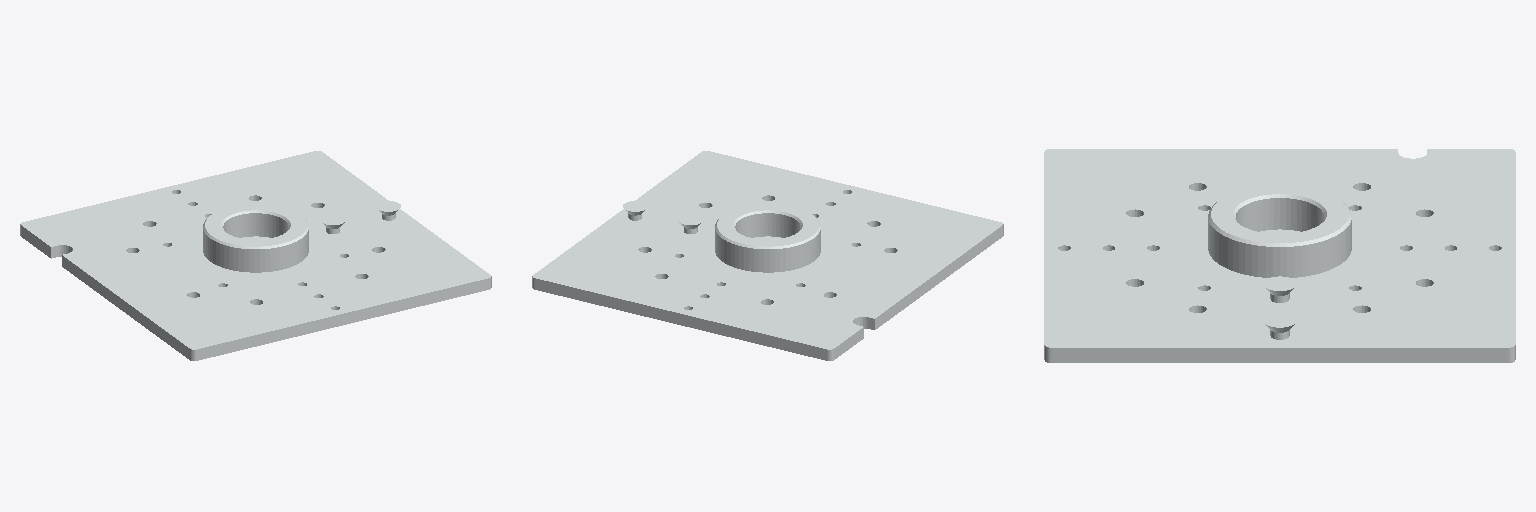
The robot description file, URDF, robot "icim_pallet_collet":
<?xml version="1.0" encoding="utf-8"?>
<!-- This URDF was automatically created by SolidWorks to URDF Exporter! Originally created by [author] ([email redacted]) 
     Commit Version: 1.6.0-1-g15f4949  Build Version: 1.6.7594.29634
     For more information, please see http://wiki.ros.org/sw_urdf_exporter -->
<robot name="icim_pallet_collet">
  <link name="icim_pallet_collet">
    <inertial>
      <origin xyz="0.00048763 -0.00011521 0.0038966" rpy="0 0 0" />
      <mass value="0.4642" />
      <inertia ixx="0.00094293" ixy="-4.1861E-06" ixz="-6.3835E-07" iyy="0.00095312" iyz="-2.0712E-09" izz="0.0018922" />
    </inertial>
    <visual>
      <origin xyz="0 0 0" rpy="0 0 0" />
      <geometry>
        <mesh filename="package://icim_pallet/meshes/icim_pallet_collet.STL" />
      </geometry>
      <material name="">
        <color rgba="0.89804 0.91765 0.92941 1" />
      </material>
    </visual>
    <collision>
      <origin xyz="0 0 0" rpy="0 0 0" />
      <geometry>
        <mesh filename="package://icim_pallet/meshes/icim_pallet_collet.STL" />
      </geometry>
    </collision>
  </link>
</robot>

--- Facts derived from the render (not from the file) ---
The picture shows the robot from 3 angles, left to right: view 1: azimuth 30°, elevation 25°; view 2: azimuth 150°, elevation 25°; view 3: azimuth 270°, elevation 25°; orthographic projection.
Robot: icim_pallet_collet — 1 links, 0 joints (none); root link icim_pallet_collet; default pose: all joints at 0.
Links seen in each view (by area): view 1: icim_pallet_collet; view 2: icim_pallet_collet; view 3: icim_pallet_collet.
Link boxes in pixels (left/top/right/bottom): icim_pallet_collet: left=20, top=151, right=491, bottom=360; icim_pallet_collet: left=532, top=151, right=1003, bottom=360; icim_pallet_collet: left=1044, top=149, right=1515, bottom=362.
Size in the robot's own frame: 0.163 by 0.163 by 0.019 metres.
1 mesh visuals loaded from 1 distinct referenced files (1 binary STL).
